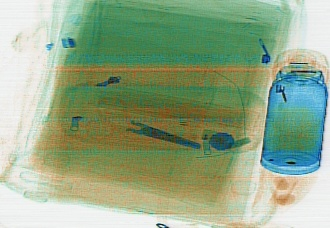scissors: (82, 96, 200, 149)
